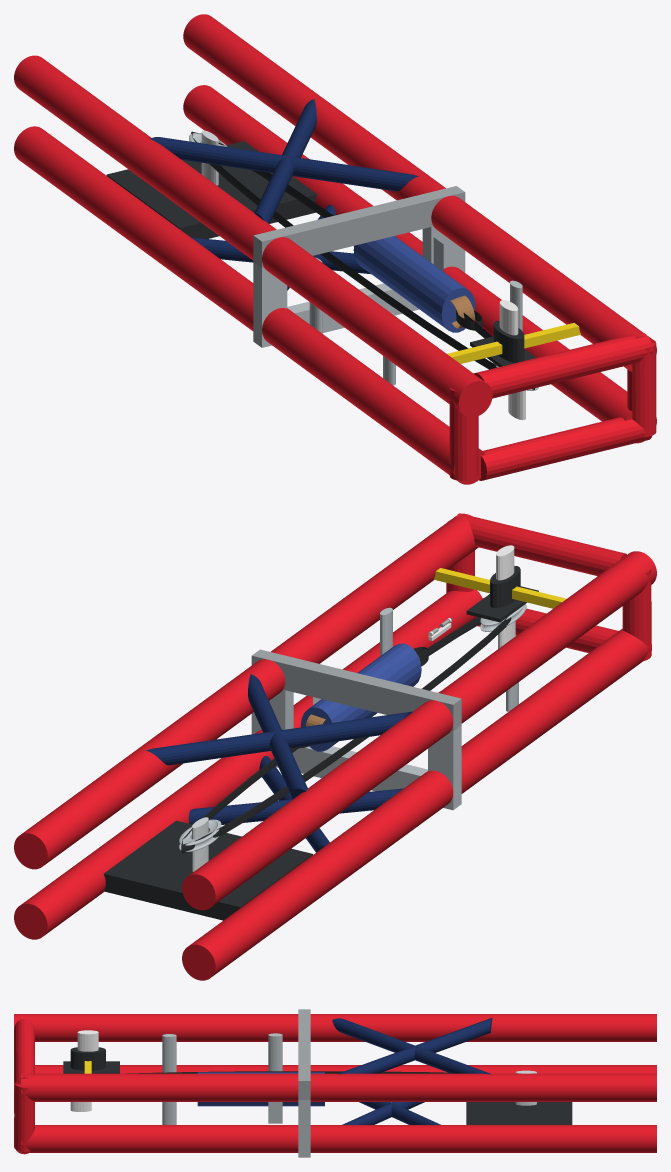
Rendered from gravicap v3.obj.
3 views of the same model, one above another, from view 1: azimuth 30°, elevation 25°; view 2: azimuth 150°, elevation 25°; view 3: azimuth 270°, elevation 25° (orthographic). The views are drawn at different scales.
Parts seen in each view (by area): view 1: group_0_15277357, group_0_2829873, group_0_1650274, group_0_10988977, group_0_12568524, group_0_3888547, group_0_16768282, group_0_16448250; view 2: group_0_15277357, group_0_2829873, group_0_1650274, group_0_12568524, group_0_10988977, group_0_3888547, group_0_16768282, group_0_16448250; view 3: group_0_15277357, group_0_1650274, group_0_2829873, group_0_12568524, group_0_10988977, group_0_3888547, group_0_16448250.
Part boxes in pixels (x1=…): group_0_15277357: x1=14, y1=14, x2=656, y2=484; group_0_2829873: x1=106, y1=131, x2=536, y2=389; group_0_1650274: x1=150, y1=99, x2=418, y2=290; group_0_10988977: x1=253, y1=186, x2=465, y2=267; group_0_12568524: x1=189, y1=132, x2=538, y2=390; group_0_3888547: x1=353, y1=236, x2=475, y2=332; group_0_16768282: x1=447, y1=323, x2=580, y2=363; group_0_16448250: x1=499, y1=300, x2=525, y2=420; group_0_15277357: x1=14, y1=513, x2=656, y2=980; group_0_2829873: x1=104, y1=566, x2=538, y2=920; group_0_1650274: x1=145, y1=674, x2=412, y2=852; group_0_12568524: x1=179, y1=604, x2=526, y2=851; group_0_10988977: x1=251, y1=619, x2=461, y2=730; group_0_3888547: x1=300, y1=643, x2=421, y2=751; group_0_16768282: x1=433, y1=568, x2=566, y2=608; group_0_16448250: x1=428, y1=545, x2=515, y2=648; group_0_15277357: x1=14, y1=1014, x2=656, y2=1154; group_0_1650274: x1=332, y1=1017, x2=492, y2=1124; group_0_2829873: x1=63, y1=1047, x2=572, y2=1124; group_0_12568524: x1=162, y1=1033, x2=310, y2=1157; group_0_10988977: x1=298, y1=1009, x2=310, y2=1099; group_0_3888547: x1=197, y1=1072, x2=324, y2=1106; group_0_16448250: x1=70, y1=1030, x2=98, y2=1111.
Size of the model in its own units: 24 by 14 by 91.
